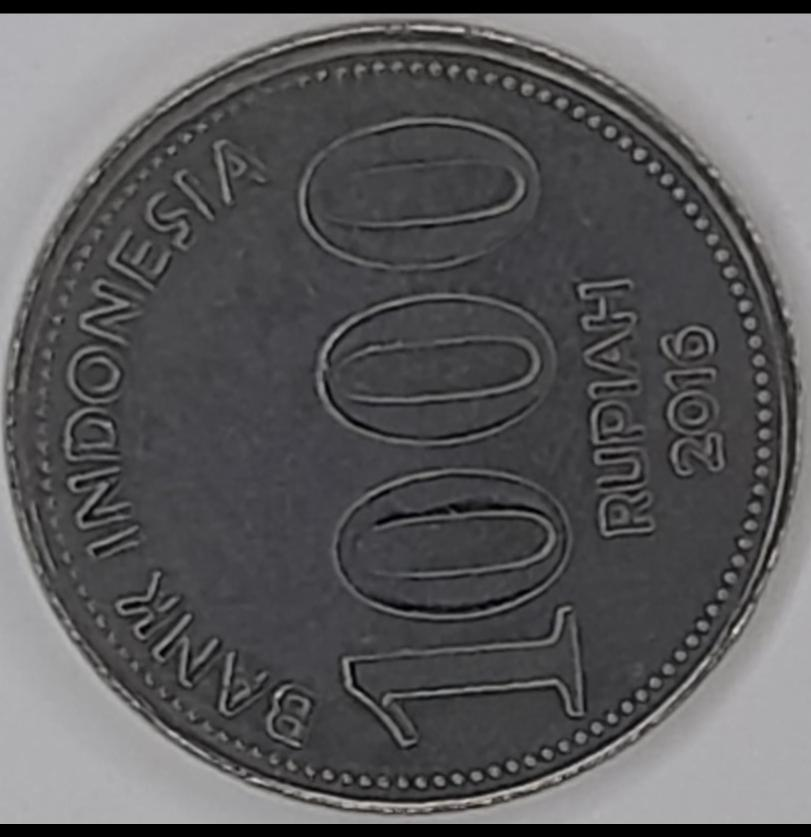coin_1000_e2016: (14, 17, 800, 837)
